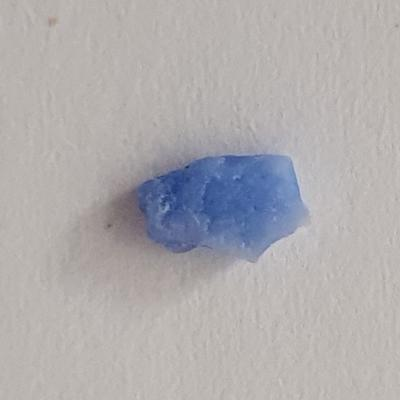plastic: (124, 128, 328, 300)
